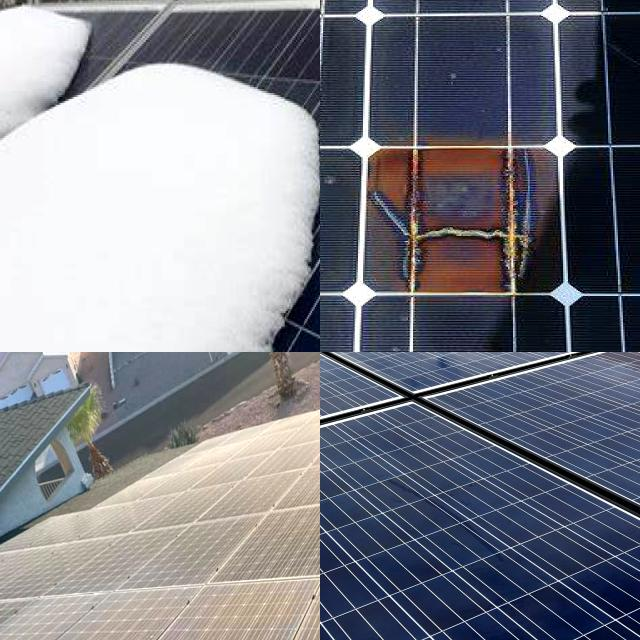crack: (320, 383, 640, 640), (404, 352, 640, 577), (320, 352, 640, 458), (320, 352, 498, 478)
dust: (186, 585, 307, 640), (8, 545, 158, 585), (188, 443, 256, 515), (85, 586, 170, 640), (267, 416, 320, 500), (263, 503, 320, 570), (183, 536, 258, 584), (0, 595, 74, 640), (110, 490, 180, 532), (56, 505, 106, 543), (0, 563, 16, 594)
panel: (204, 59, 298, 144), (236, 262, 312, 352), (100, 40, 184, 100), (14, 0, 103, 34), (38, 51, 88, 105), (305, 104, 320, 282)
shadow: (338, 129, 596, 308), (320, 150, 407, 289)
